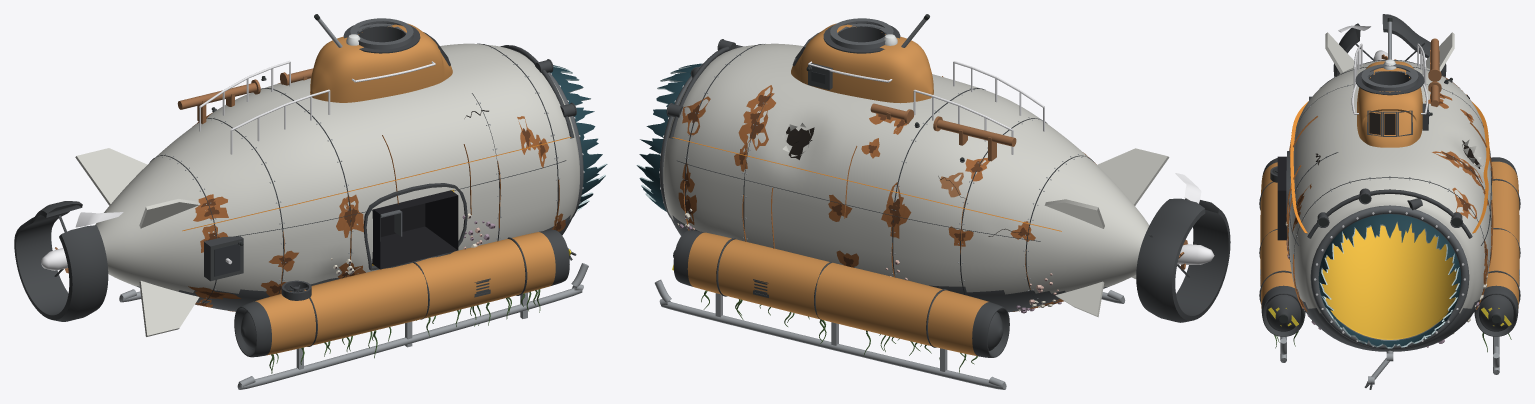
File: SM_Sub2_Wrecked.fbx
3 renders of one model, left to right at view 1: azimuth 30°, elevation 25°; view 2: azimuth 150°, elevation 25°; view 3: azimuth 270°, elevation 25°, orthographic. The views are drawn at different scales.
Parts seen in each view (by area): view 1: SM_Sub2_Wrecked; view 2: SM_Sub2_Wrecked; view 3: SM_Sub2_Wrecked.
Part boxes in pixels (box(x1,y1,x2,y2)): SM_Sub2_Wrecked: box(14, 14, 607, 389); SM_Sub2_Wrecked: box(636, 14, 1230, 389); SM_Sub2_Wrecked: box(1259, 14, 1520, 389).
Bounding box in the file's own units: 7.49 × 3.97 × 3.49.
